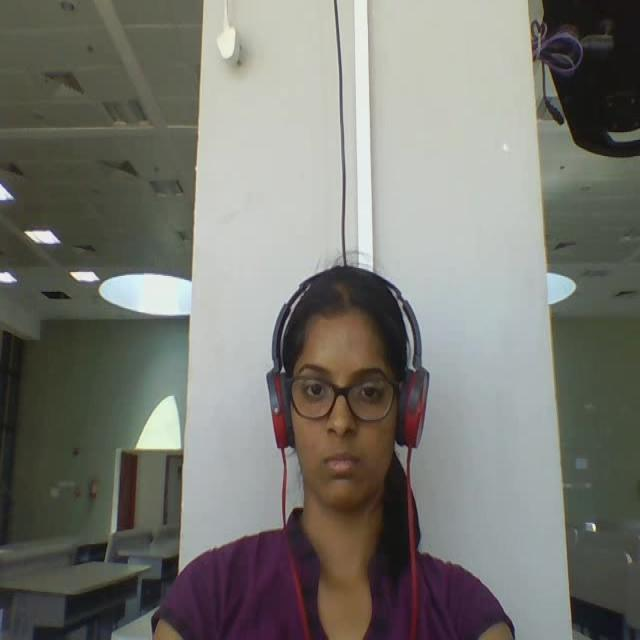Engaged: (254, 253, 445, 520)
